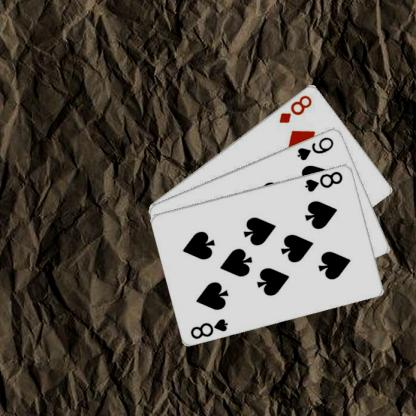8D: (276, 92, 314, 124)
8S: (302, 168, 344, 192), (188, 316, 230, 340)
9S: (294, 134, 335, 161)
